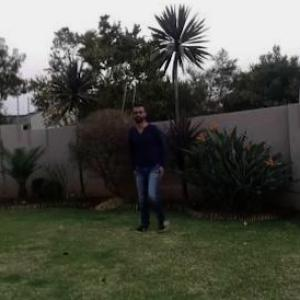follow: (130, 104, 166, 227)
